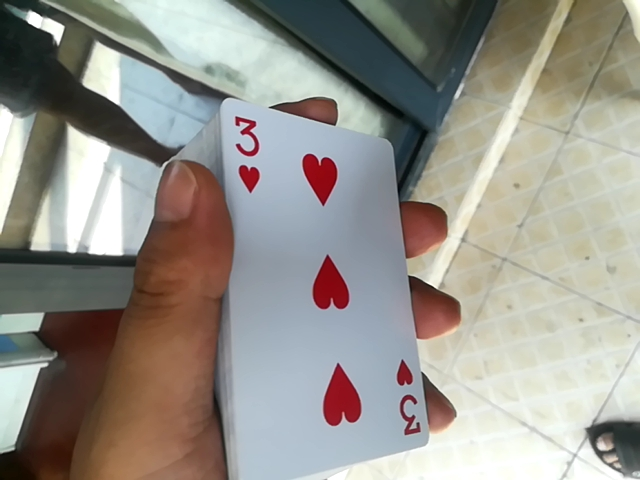hx 3: (213, 88, 437, 463)
